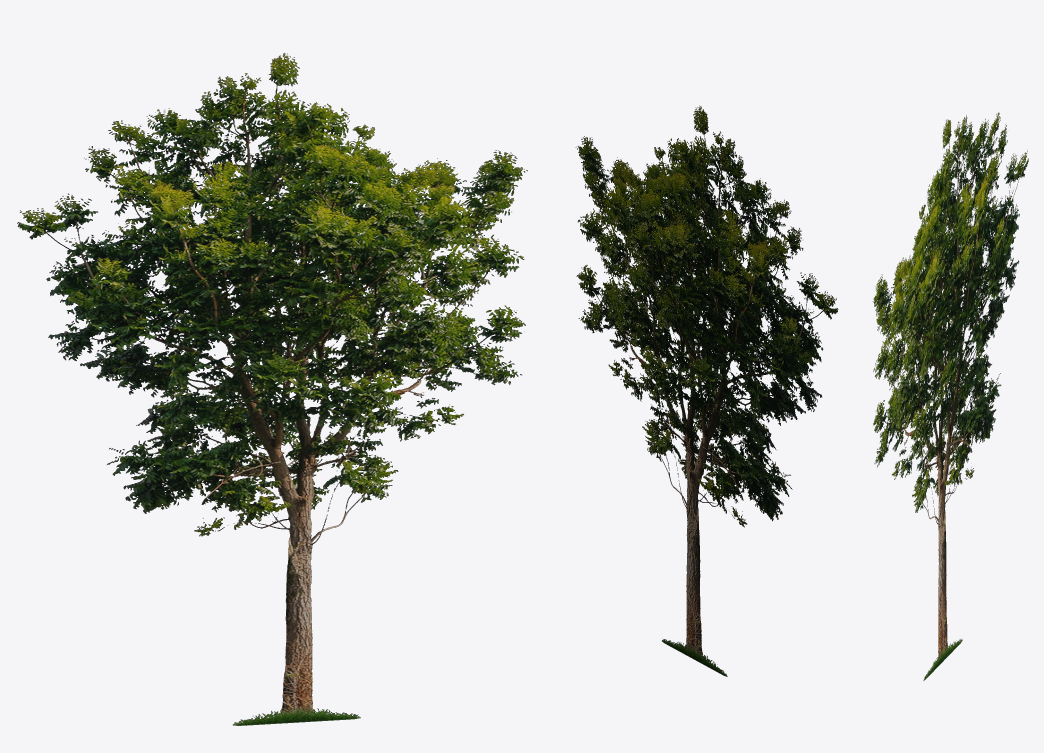
Rendered from Arena_Tree-R.glb.
3 renders of one model, left to right at view 1: azimuth 30°, elevation 25°; view 2: azimuth 150°, elevation 25°; view 3: azimuth 270°, elevation 25°, orthographic. The views are drawn at different scales.
Visible parts, largest first — view 1: 10-Tree-R; view 2: 10-Tree-R; view 3: 10-Tree-R.
Part boxes in pixels (box(x1,y1,x2,y2)): 10-Tree-R: box(17, 53, 527, 725); 10-Tree-R: box(575, 105, 838, 676); 10-Tree-R: box(872, 112, 1028, 680).
Bounding box in the file's own units: 3.6 × 5.6 × 1.47.
Materials: 1 (1 with a texture image).
